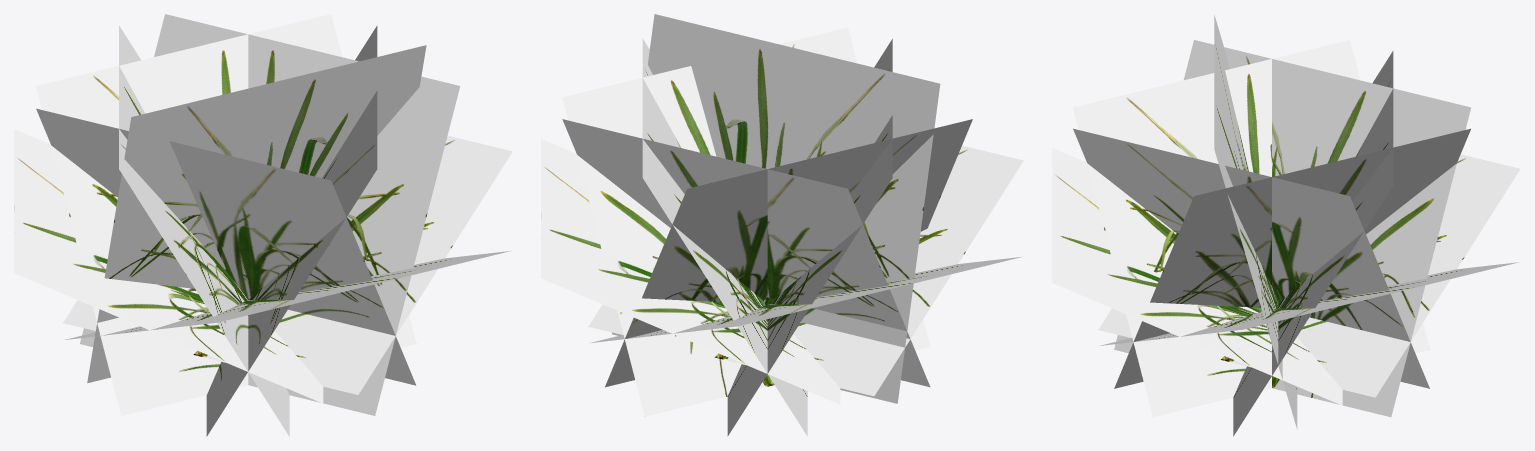
File: Plant_01.FBX
The picture shows the model from 3 angles, left to right: view 1: azimuth 30°, elevation 25°; view 2: azimuth 150°, elevation 25°; view 3: azimuth 270°, elevation 25°; orthographic projection. The views are drawn at different scales.
Parts seen in each view (by area): view 1: Plane005; view 2: Plane005; view 3: Plane005.
Part boxes in pixels (left/top/right/bottom): Plane005: left=14, top=14, right=512, bottom=436; Plane005: left=541, top=14, right=1023, bottom=436; Plane005: left=1052, top=15, right=1520, bottom=436.
Bounding box in the file's own units: 101 × 59.48 × 87.74.
